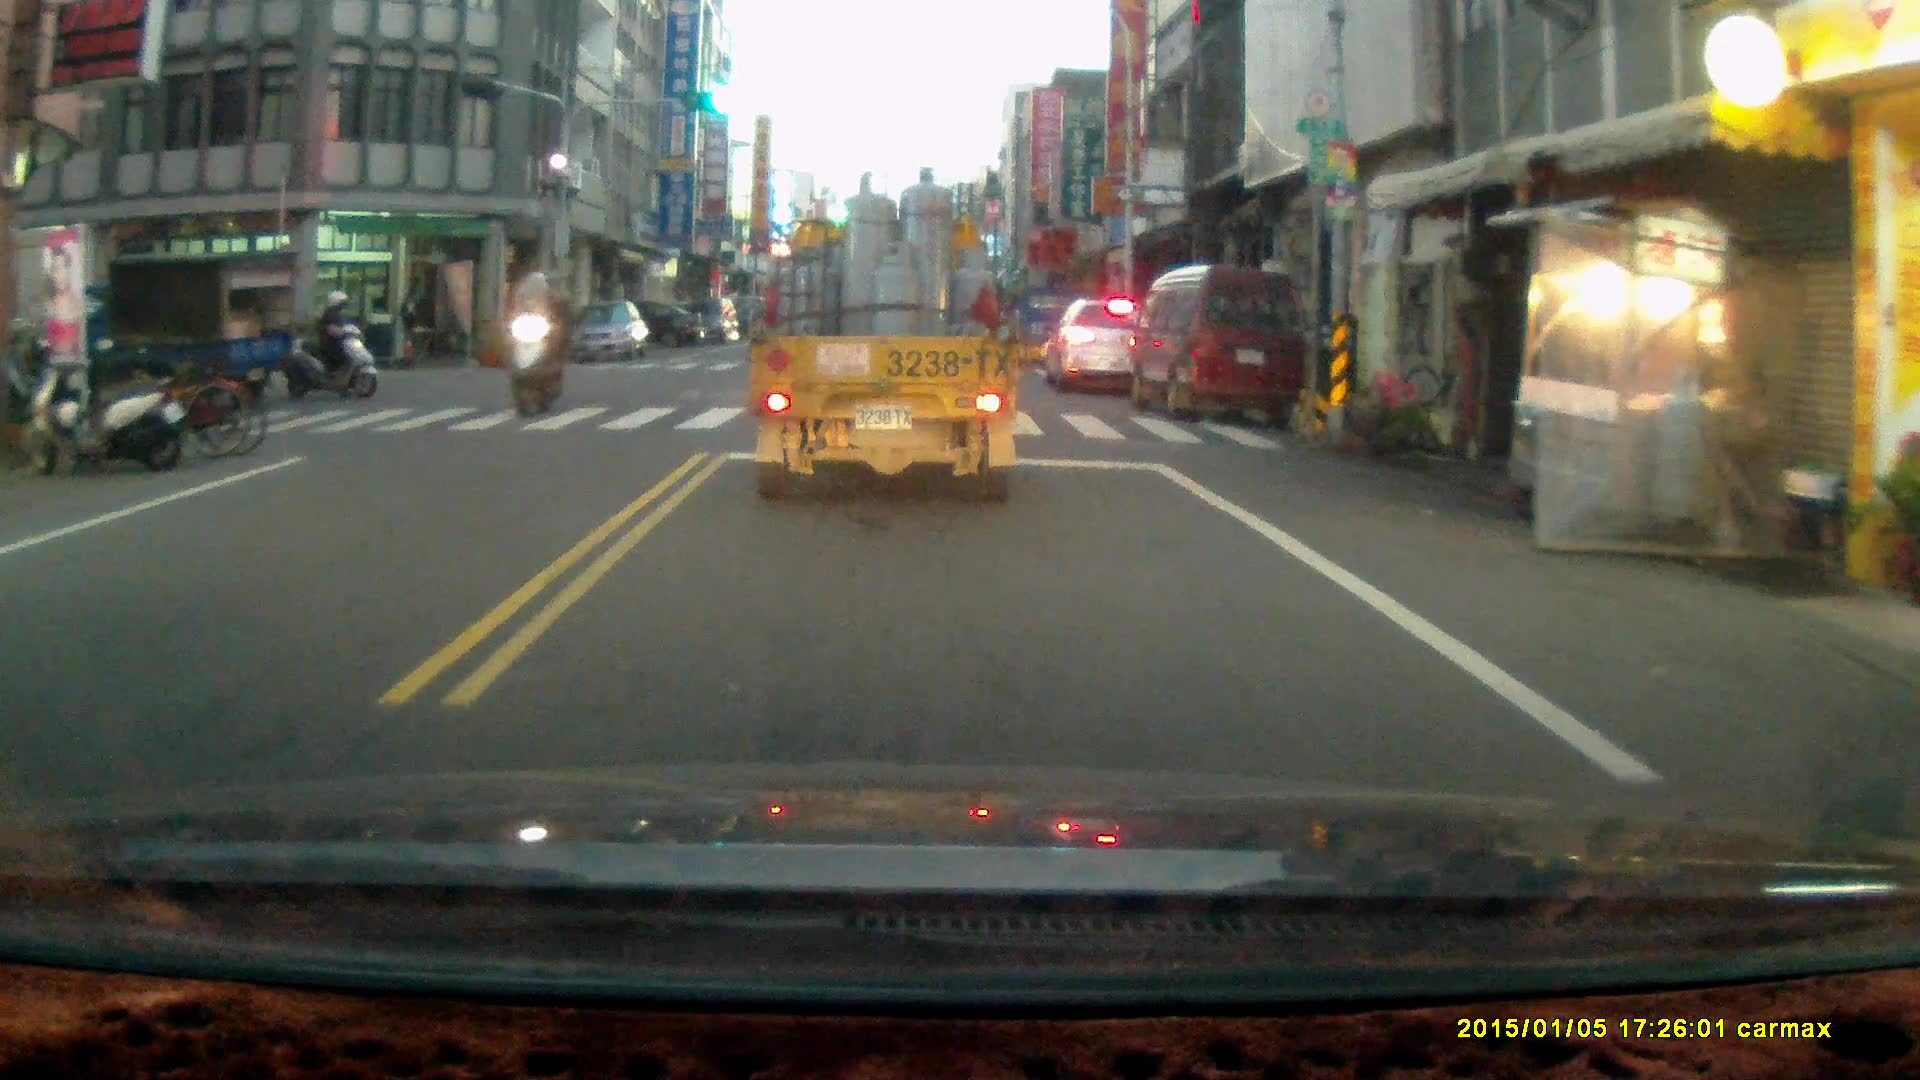pedestrian: (393, 284, 425, 369)
rider: (283, 282, 378, 394), (502, 266, 564, 414)
vehicle: (749, 168, 1026, 509), (45, 247, 302, 415), (1129, 273, 1312, 427), (1044, 295, 1160, 398), (586, 299, 704, 356), (566, 300, 652, 366), (659, 297, 741, 345)
